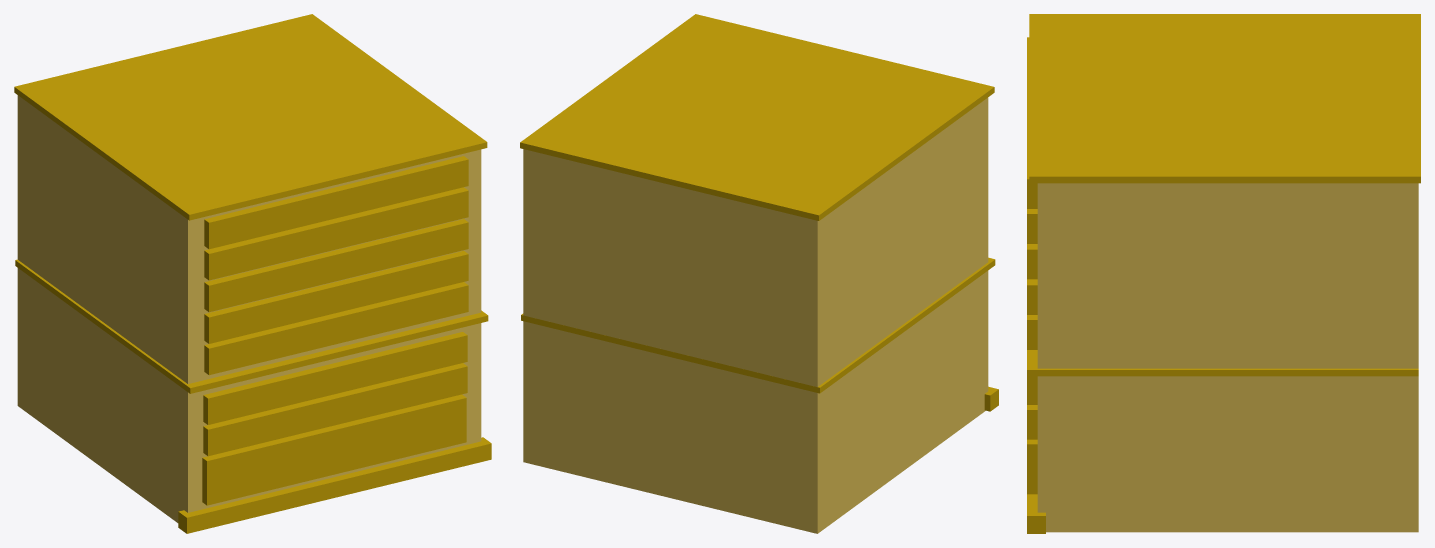
File: sh-contrib-high-boy-dresser.glb
3 renders of one model, left to right at view 1: azimuth 30°, elevation 25°; view 2: azimuth 150°, elevation 25°; view 3: azimuth 270°, elevation 25°, orthographic. The views are drawn at different scales.
Parts seen in each view (by area): view 1: separator, top_section; view 2: top_section, separator; view 3: top_section, separator.
Boxes of the visible parts, x1,y1,x2,y2 form: separator: (14,14,491,533); top_section: (17,95,481,522); top_section: (523,97,988,533); separator: (520,14,998,411); top_section: (1037,183,1418,532); separator: (1027,14,1420,533).
Bounding box in the file's own units: 1 × 1 × 1.
